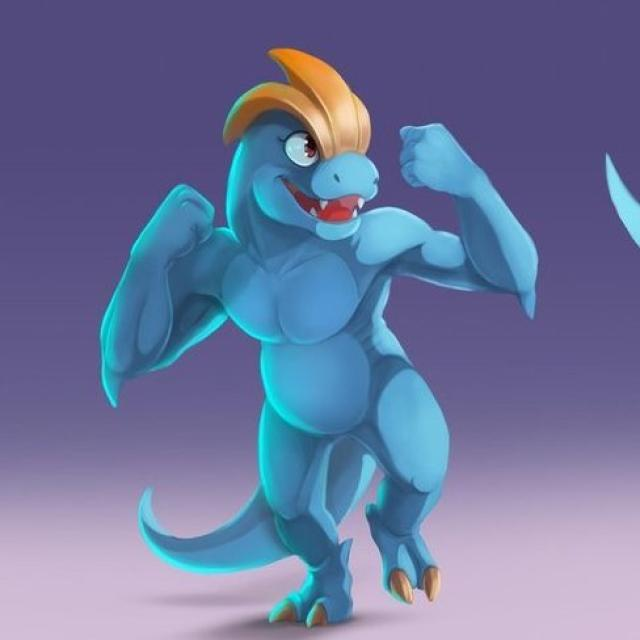Machop: (135, 50, 467, 623)
